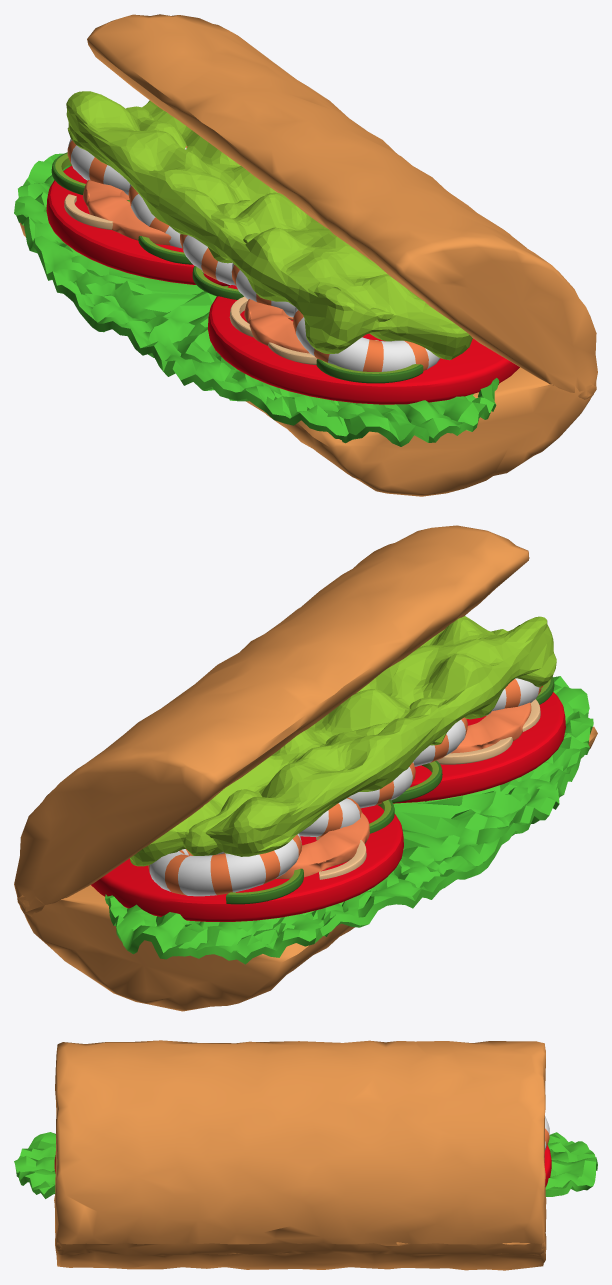
The model's file is 260401_sandWitch.glb.
The picture shows the model from 3 angles, top to bottom: view 1: azimuth 30°, elevation 25°; view 2: azimuth 150°, elevation 25°; view 3: azimuth 270°, elevation 25°; orthographic projection. The views are drawn at different scales.
Visible parts, largest first — view 1: 円柱.002, 立方体, 円, 円.002, 円.001, トーラス.004, 円.011, 円.012, トーラス, 円.006, トーラス.002, トーラス.001 (+4 smaller); view 2: 円柱.002, 立方体, 円, 円.001, 円.002, トーラス, 円.011, 円.012, トーラス.001, トーラス.002, 円.003, トーラス.003 (+4 smaller); view 3: 円柱.002, 円.
Part boxes in pixels (x1,y1,x2,y2): 円柱.002: [19, 14, 597, 496]; 立方体: [66, 91, 472, 360]; 円: [14, 153, 499, 446]; 円.002: [208, 285, 519, 404]; 円.001: [46, 165, 229, 286]; トーラス.004: [293, 307, 440, 371]; 円.011: [83, 180, 171, 245]; 円.012: [244, 299, 309, 353]; トーラス: [67, 139, 129, 195]; 円.006: [316, 359, 423, 383]; トーラス.002: [180, 234, 235, 285]; トーラス.001: [128, 146, 187, 248]; 円柱.002: [14, 525, 597, 1011]; 立方体: [130, 616, 556, 866]; 円: [105, 676, 593, 964]; 円.001: [91, 805, 403, 921]; 円.002: [393, 686, 565, 803]; トーラス: [148, 833, 301, 896]; 円.011: [276, 812, 369, 878]; 円.012: [450, 702, 531, 753]; トーラス.001: [299, 797, 361, 837]; トーラス.002: [348, 762, 415, 808]; 円.003: [226, 868, 303, 904]; トーラス.003: [413, 717, 467, 766]; 円柱.002: [54, 1040, 546, 1270]; 円: [14, 1132, 597, 1198].
Bounding box in the file's own units: 2.4 × 1.76 × 4.72.
